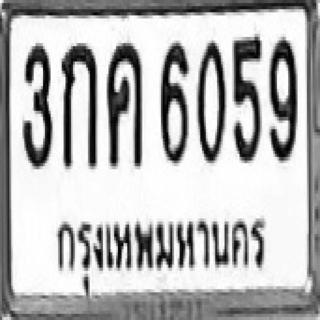A01: (60, 40, 96, 166)
A04: (105, 40, 142, 166)
N00: (196, 37, 226, 160)
N03: (20, 40, 50, 166)
N05: (232, 34, 260, 160)
N06: (159, 40, 187, 160)
N09: (268, 35, 296, 158)
P04: (52, 207, 274, 298)
